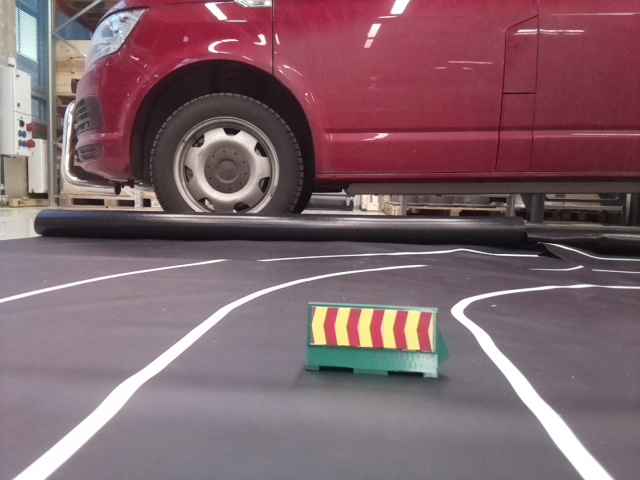ClosedRoadStand: (308, 303, 436, 374)
